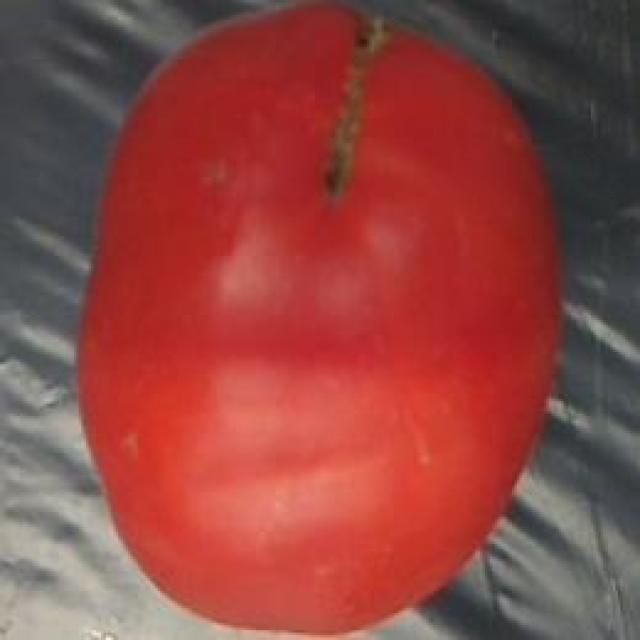overripe tomato: (61, 0, 584, 640)
